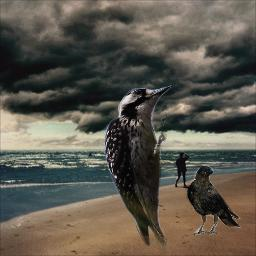Crow: (186, 165, 241, 235)
Woodpecker: (98, 77, 178, 255)
